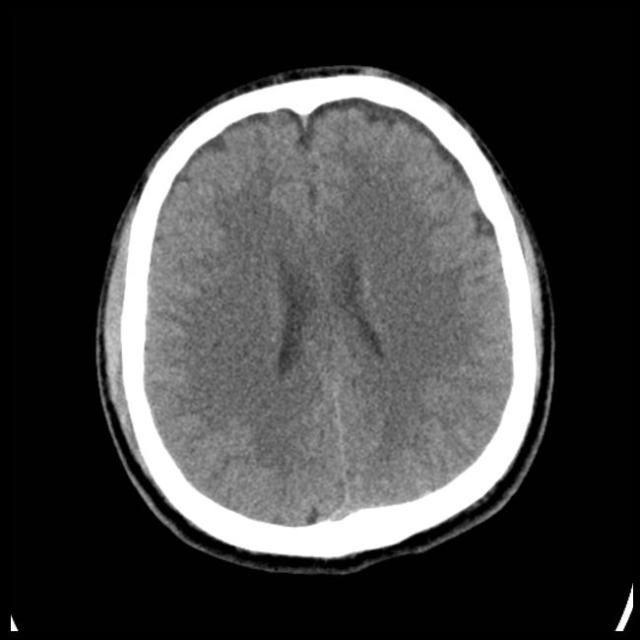lesion: (96, 64, 554, 572)
